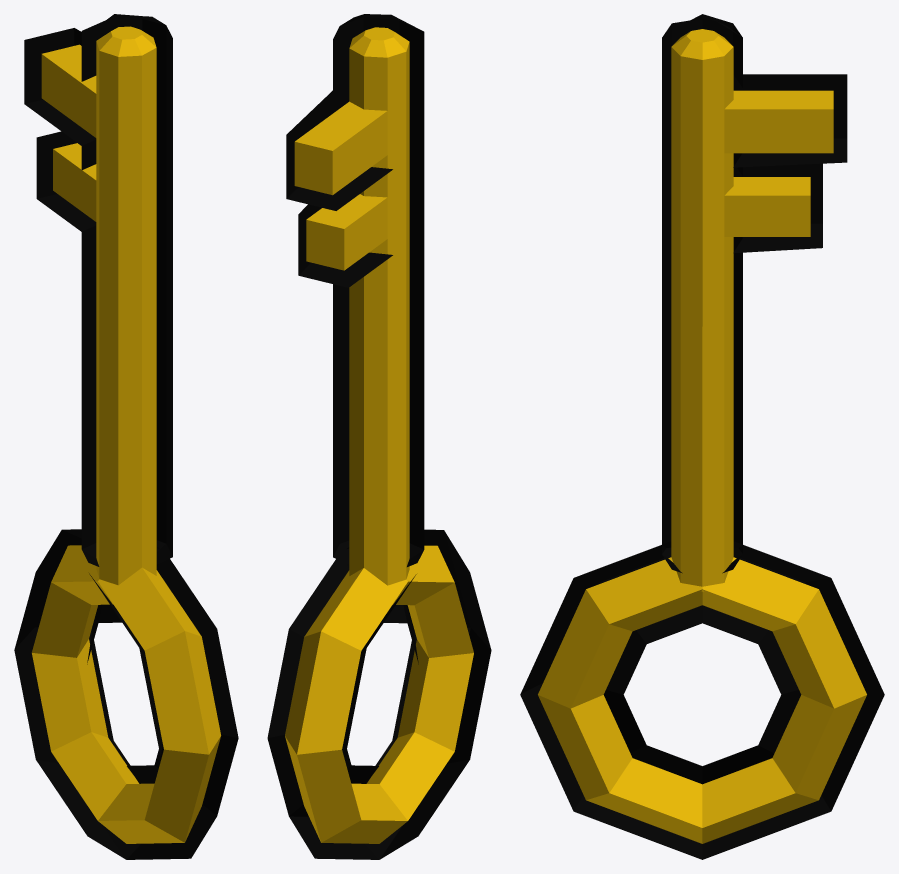
Rendered from key.fbx.
3 renders of one model, left to right at view 1: azimuth 30°, elevation 25°; view 2: azimuth 150°, elevation 25°; view 3: azimuth 270°, elevation 25°, orthographic.
Parts seen in each view (by area): view 1: Cylinder, Torus.001, OutlineCyl, Outline; view 2: Cylinder, Torus.001, OutlineCyl, Outline; view 3: Cylinder, Torus.001, Outline, OutlineCyl.
Boxes of the visible parts, x1,y1,x2,y2 form: Cylinder: (41,26,156,585); Torus.001: (32,545,221,843); OutlineCyl: (24,14,172,566); Outline: (14,529,238,859); Cylinder: (294,27,409,585); Torus.001: (285,545,473,843); OutlineCyl: (286,14,424,566); Outline: (267,529,491,859); Cylinder: (671,29,833,591); Torus.001: (538,557,866,843); Outline: (520,541,884,859); OutlineCyl: (662,14,847,573).
Bounding box in the file's own units: 29.19 × 296 × 117.
